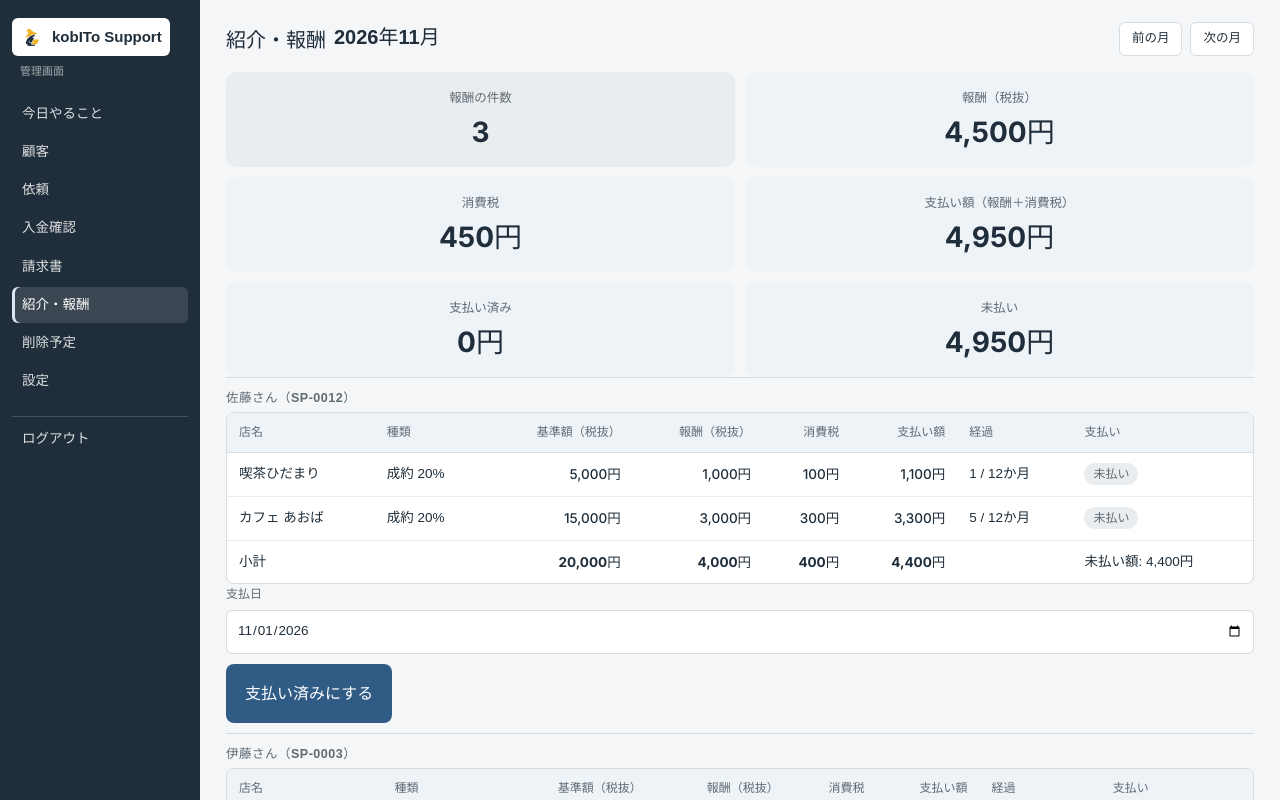
it: a08 referrals and rewards › shows the shared payment error message when recording fails
Click the button "支払い済みにする" at (309, 694), box [226,664,392,723]
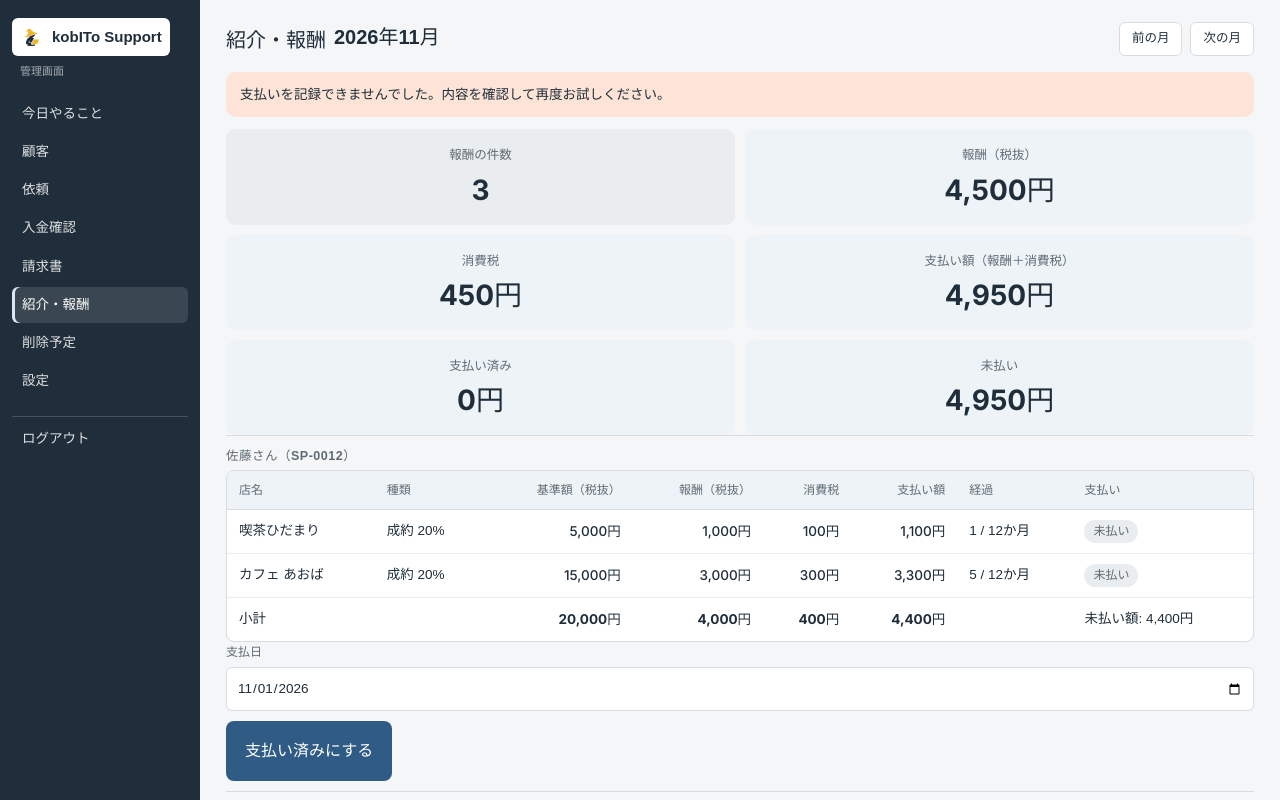
Check: the text "支払いを記録できませんでした。内容を確認して再度お試しください。" is shown, box [226,72,1254,118]
